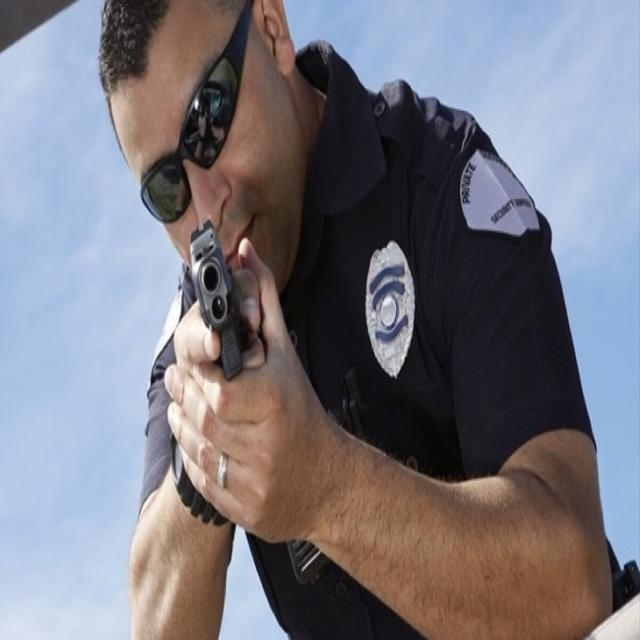pistol: (186, 208, 252, 393)
